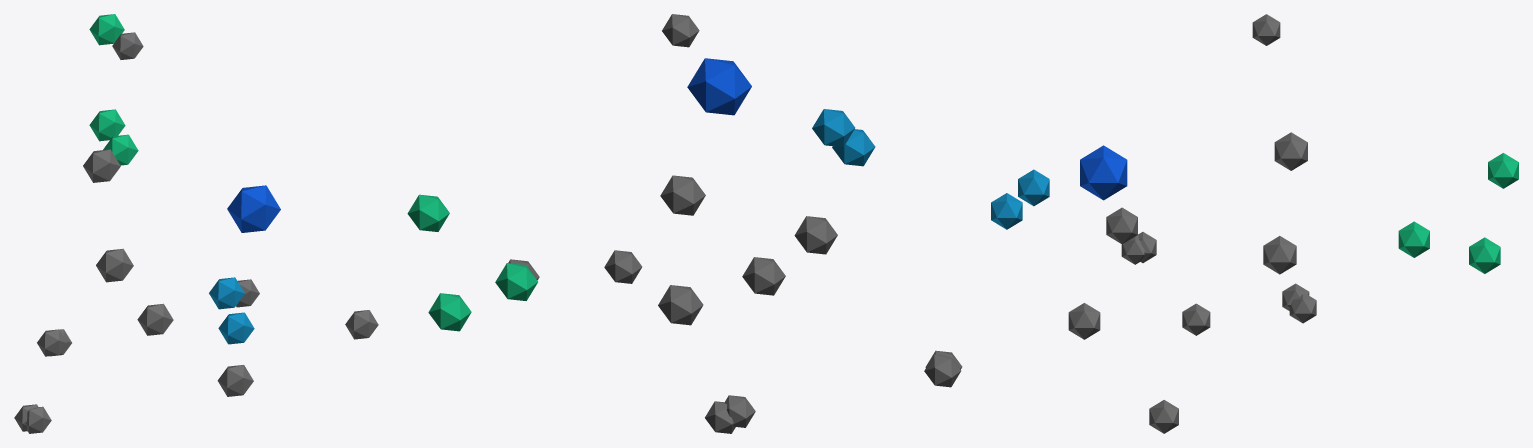
The picture shows the model from 3 angles, left to right: view 1: azimuth 30°, elevation 25°; view 2: azimuth 150°, elevation 25°; view 3: azimuth 270°, elevation 25°; orthographic projection. The views are drawn at different scales.
Visible parts, largest first — view 1: 08_09_04; view 2: 08_09_04; view 3: 08_09_04.
Boxes of the visible parts, x1,y1,x2,y2 form: 08_09_04: (14,14,378,433); 08_09_04: (407,14,962,433); 08_09_04: (991,14,1518,433).
Bounding box in the file's own units: 0.4819 × 0.403 × 0.5858.
